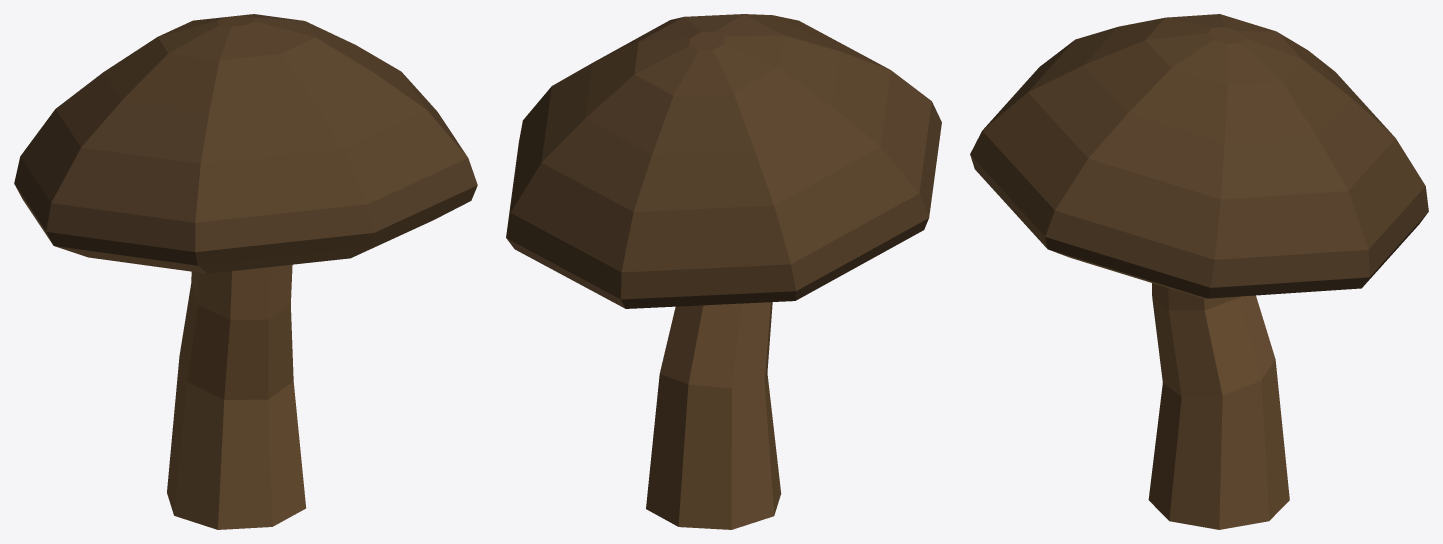
File: CrookedMushroom2.fbx
3 renders of one model, left to right at view 1: azimuth 30°, elevation 25°; view 2: azimuth 150°, elevation 25°; view 3: azimuth 270°, elevation 25°, orthographic. The views are drawn at different scales.
Parts seen in each view (by area): view 1: CrookedMushroom2; view 2: CrookedMushroom2; view 3: CrookedMushroom2.
Boxes of the visible parts, x1,y1,x2,y2 form: CrookedMushroom2: (14, 14, 477, 529); CrookedMushroom2: (506, 14, 941, 529); CrookedMushroom2: (970, 14, 1428, 529).
Size of the model in its own units: 529 by 589 by 523.
